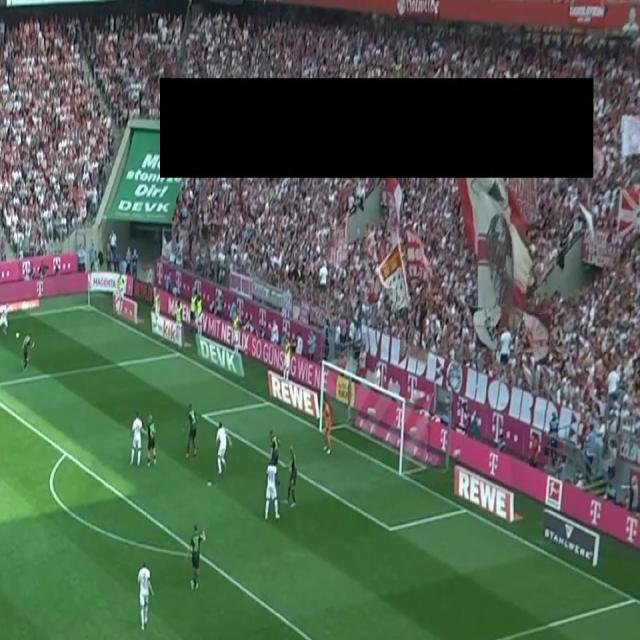ball: (15, 330, 21, 340)
